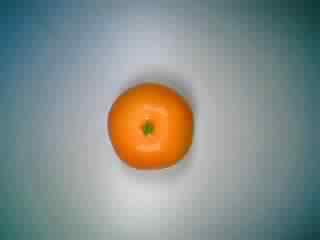orange: (101, 78, 197, 174)
